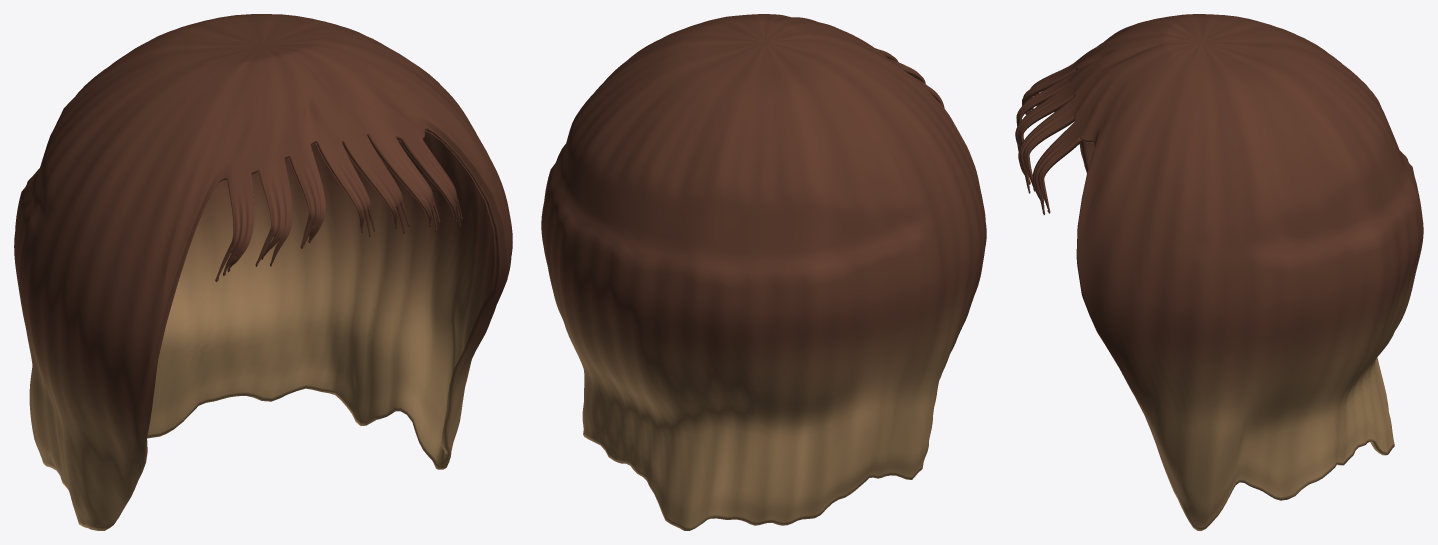
File: side-sweep-bucket-ombre.glb
3 views of the same model, side by side, from view 1: azimuth 30°, elevation 25°; view 2: azimuth 150°, elevation 25°; view 3: azimuth 270°, elevation 25° (orthographic). The views are drawn at different scales.
Parts seen in each view (by area): view 1: Wispy bangs / continuous crown; view 2: Wispy bangs / continuous crown; view 3: Wispy bangs / continuous crown.
Part boxes in pixels (box(x1,y1,x2,y2)): Wispy bangs / continuous crown: box(14, 14, 512, 530); Wispy bangs / continuous crown: box(541, 14, 986, 530); Wispy bangs / continuous crown: box(1015, 14, 1423, 530).
Bounding box in the file's own units: 0.8388 × 0.8731 × 0.7734.
